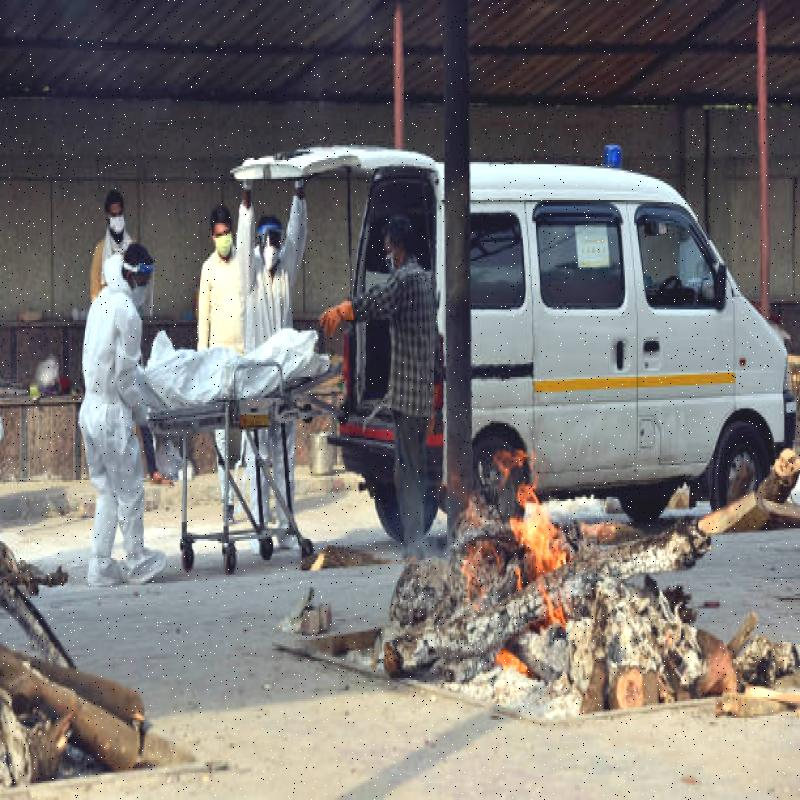AmbulanceSiren: (597, 140, 627, 174)
ambulance: (347, 132, 788, 518)
